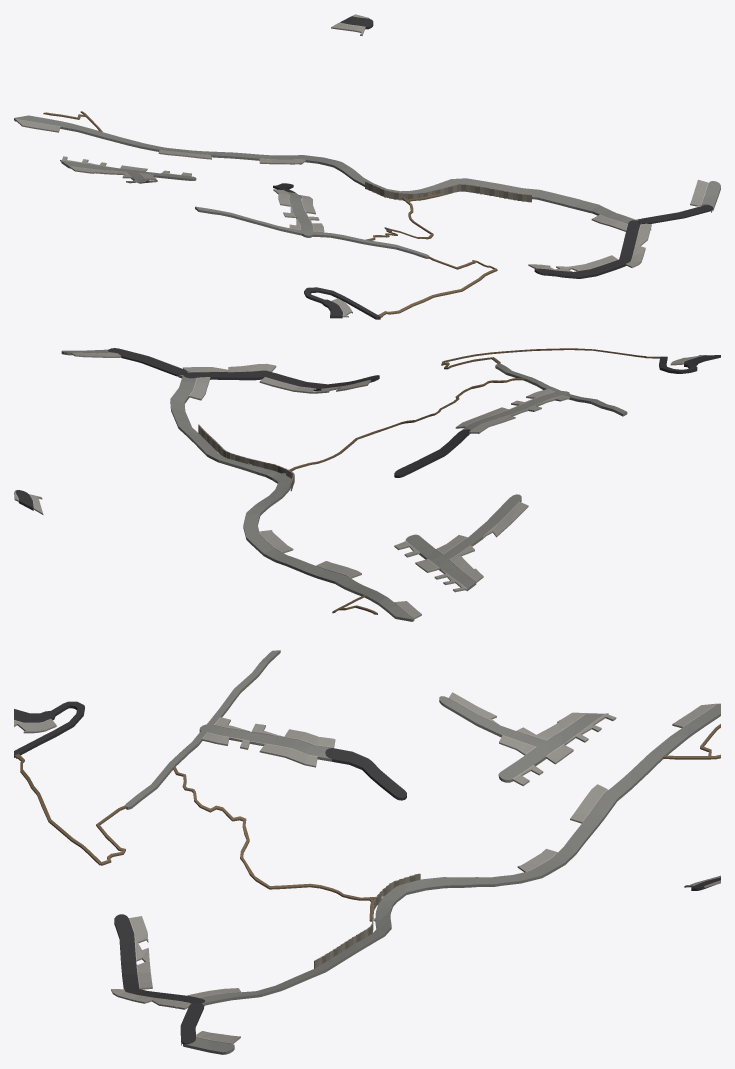
3 renders of one model, top to bottom at view 1: azimuth 30°, elevation 25°; view 2: azimuth 150°, elevation 25°; view 3: azimuth 270°, elevation 25°, orthographic. The views are drawn at different scales.
Bounding box in the file's own units: 292 × 57.76 × 292.
